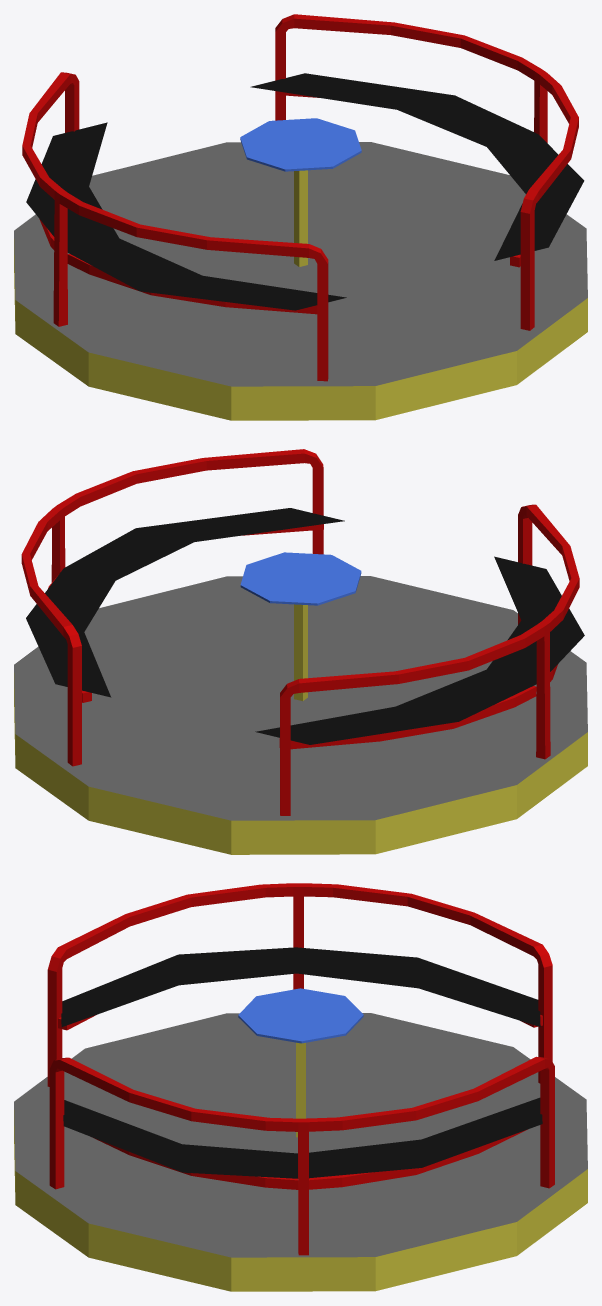
File: karuzela.fbx
3 views of the same model, one above another, from view 1: azimuth 30°, elevation 25°; view 2: azimuth 150°, elevation 25°; view 3: azimuth 270°, elevation 25° (orthographic).
Visible parts, largest first — view 1: Circle; view 2: Circle; view 3: Circle.
Boxes of the visible parts, x1,y1,x2,y2 form: Circle: [14, 14, 587, 420]; Circle: [14, 449, 587, 854]; Circle: [14, 883, 587, 1291].
Size of the model in its own units: 263 by 84.43 by 266.
